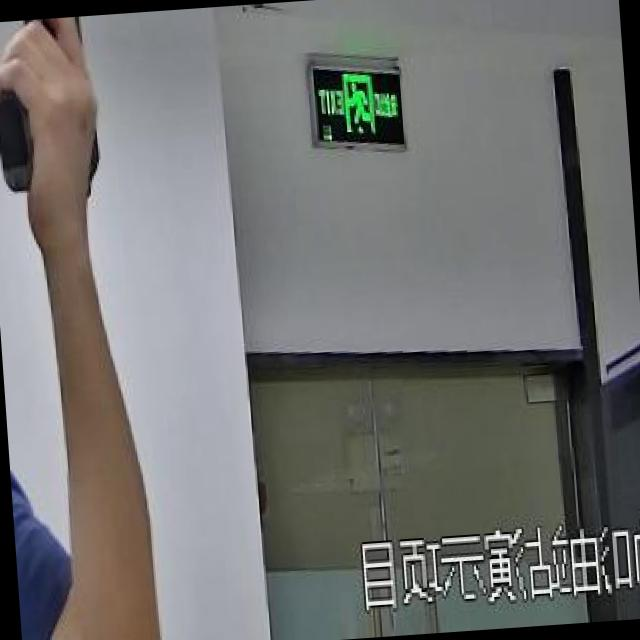Guns: (0, 13, 127, 210)
